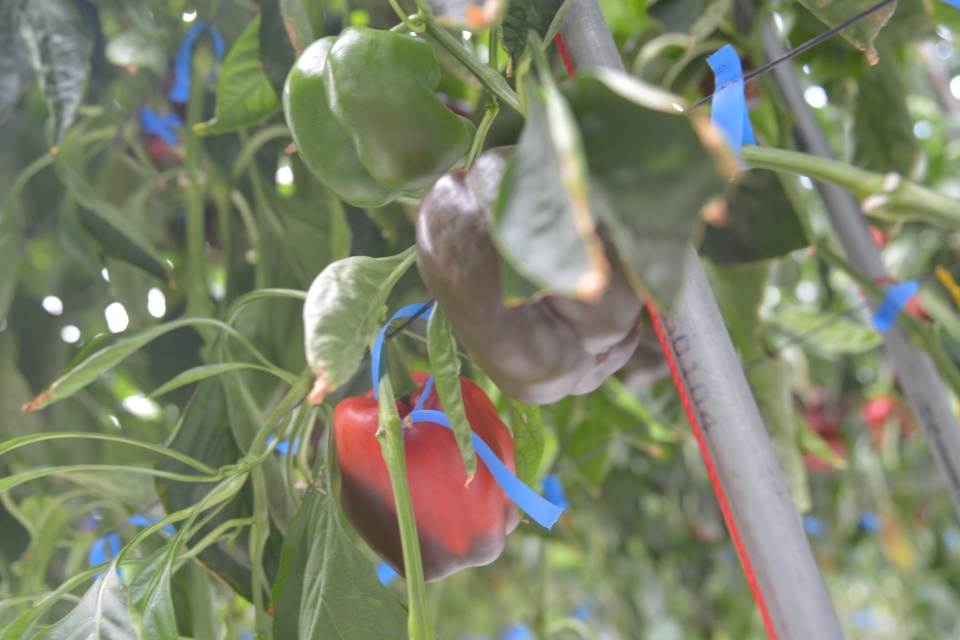fruit: (412, 142, 643, 404), (331, 369, 521, 583), (279, 24, 478, 211)
